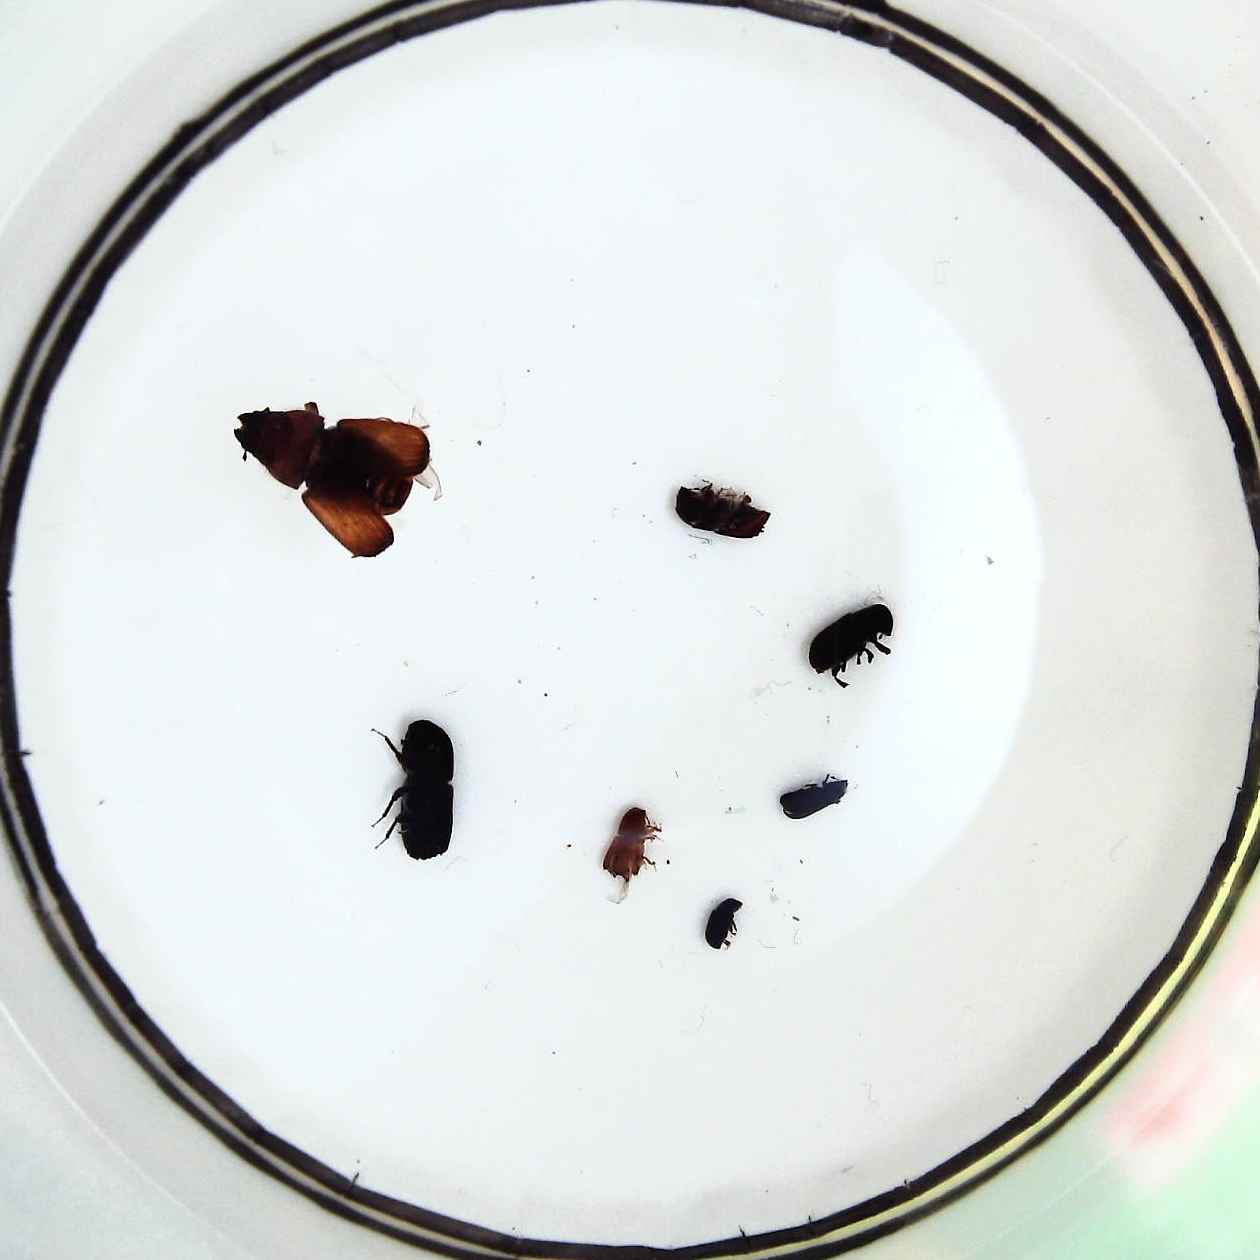Boerner: (395, 717, 452, 861)
Leconte: (232, 405, 429, 561)
Linnaeus: (677, 482, 771, 540)
acuminatus: (603, 807, 655, 885)
armandi: (809, 603, 892, 676)
coleoptera: (785, 775, 847, 818), (706, 894, 743, 946)
